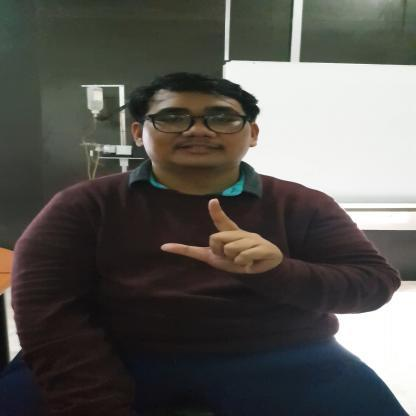L: (161, 198, 286, 278)
